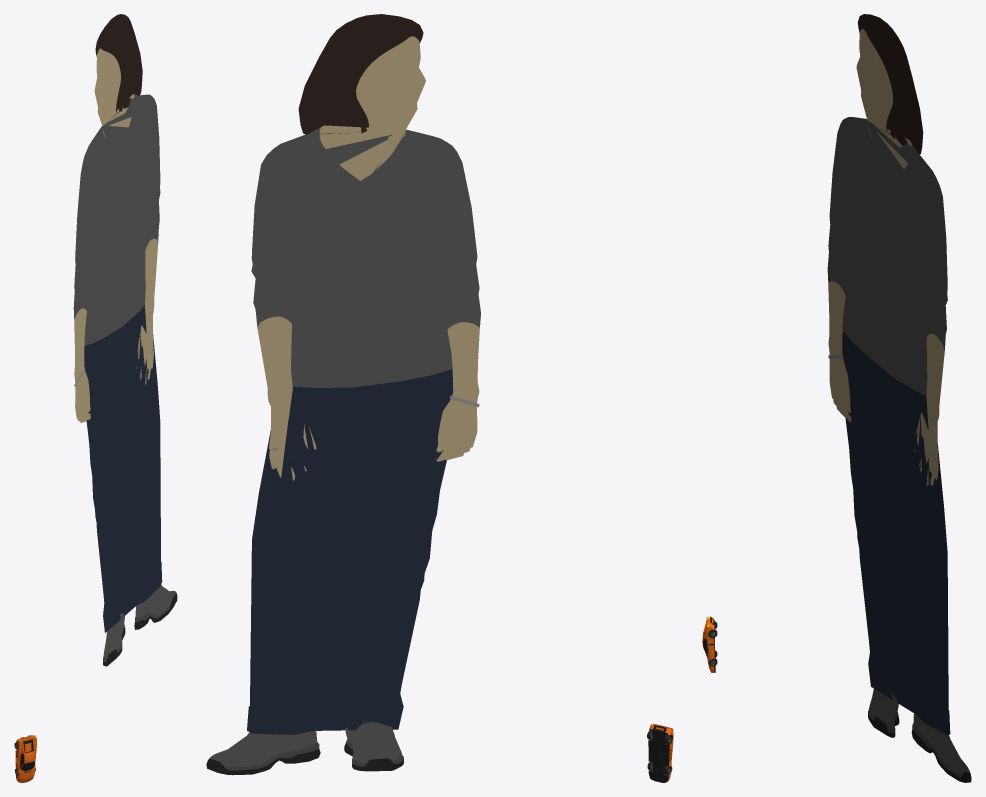
Rendered from Car_orange.obj.
The picture shows the model from 3 angles, left to right: view 1: azimuth 30°, elevation 25°; view 2: azimuth 150°, elevation 25°; view 3: azimuth 270°, elevation 25°; orthographic projection. The views are drawn at different scales.
Parts seen in each view (by area): view 1: Mesh1 Susan1 Model; view 2: Mesh1 Susan1 Model, Mesh20 Mesh_004_1 skp186_1 Model; view 3: Mesh1 Susan1 Model.
Part boxes in pixels (x1=…): Mesh1 Susan1 Model: x1=73, y1=14, x2=177, y2=666; Mesh1 Susan1 Model: x1=206, y1=14, x2=480, y2=775; Mesh20 Mesh_004_1 skp186_1 Model: x1=648, y1=725, x2=672, y2=782; Mesh1 Susan1 Model: x1=827, y1=14, x2=971, y2=782.
Bounding box in the file's own units: 30.1 × 69.15 × 22.76.
